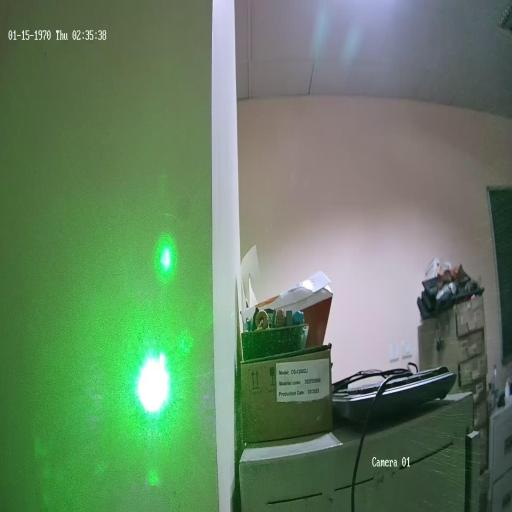laser: (130, 341, 179, 423)
